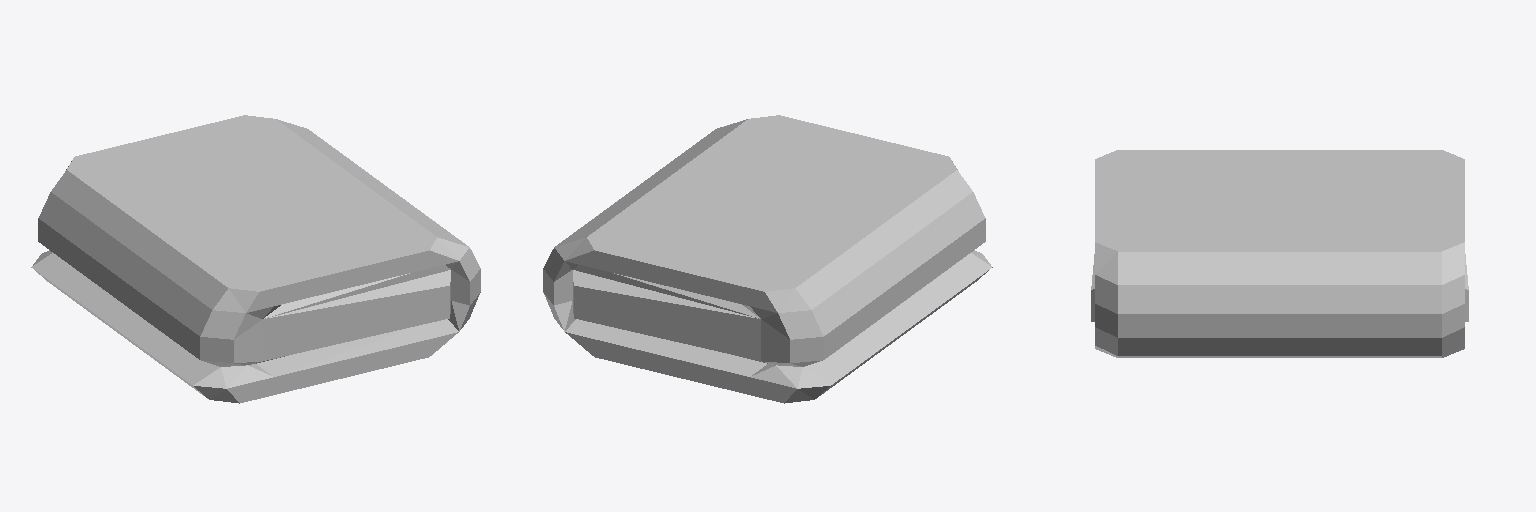
The model's file is Room_301_0_13.obj.
3 renders of one model, left to right at view 1: azimuth 30°, elevation 25°; view 2: azimuth 150°, elevation 25°; view 3: azimuth 270°, elevation 25°, orthographic.
Visible parts, largest first — view 1: Towel; view 2: Towel; view 3: Towel.
Boxes of the visible parts, x1=… form: Towel: x1=31, y1=115, x2=480, y2=403; Towel: x1=543, y1=115, x2=992, y2=403; Towel: x1=1091, y1=150, x2=1468, y2=357.
Size of the model in its own units: 0.4533 by 0.1609 by 0.5154.